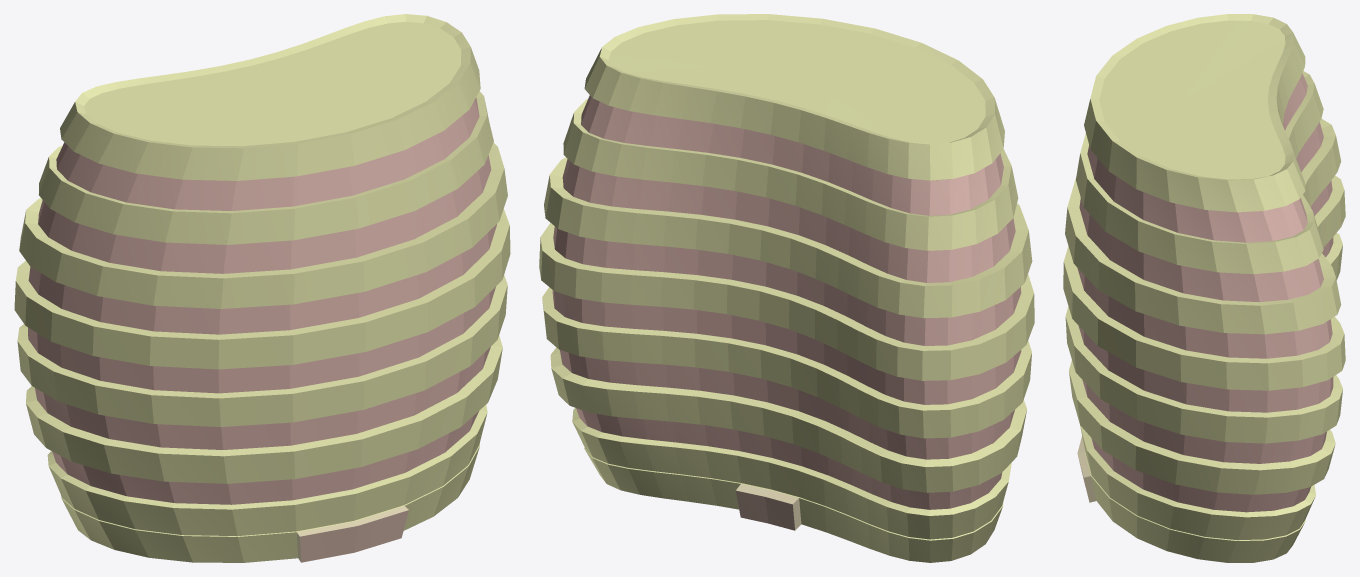
Rendered from Building Background_01.fbx.
The picture shows the model from 3 angles, left to right: view 1: azimuth 30°, elevation 25°; view 2: azimuth 150°, elevation 25°; view 3: azimuth 270°, elevation 25°; orthographic projection. The views are drawn at different scales.
Visible parts, largest first — view 1: Building1; view 2: Building1; view 3: Building1.
Boxes of the visible parts, x1,y1,x2,y2 form: Building1: (14, 14, 510, 562); Building1: (539, 14, 1034, 562); Building1: (1063, 14, 1345, 562).
Bounding box in the file's own units: 9.3 × 8.16 × 5.43.
